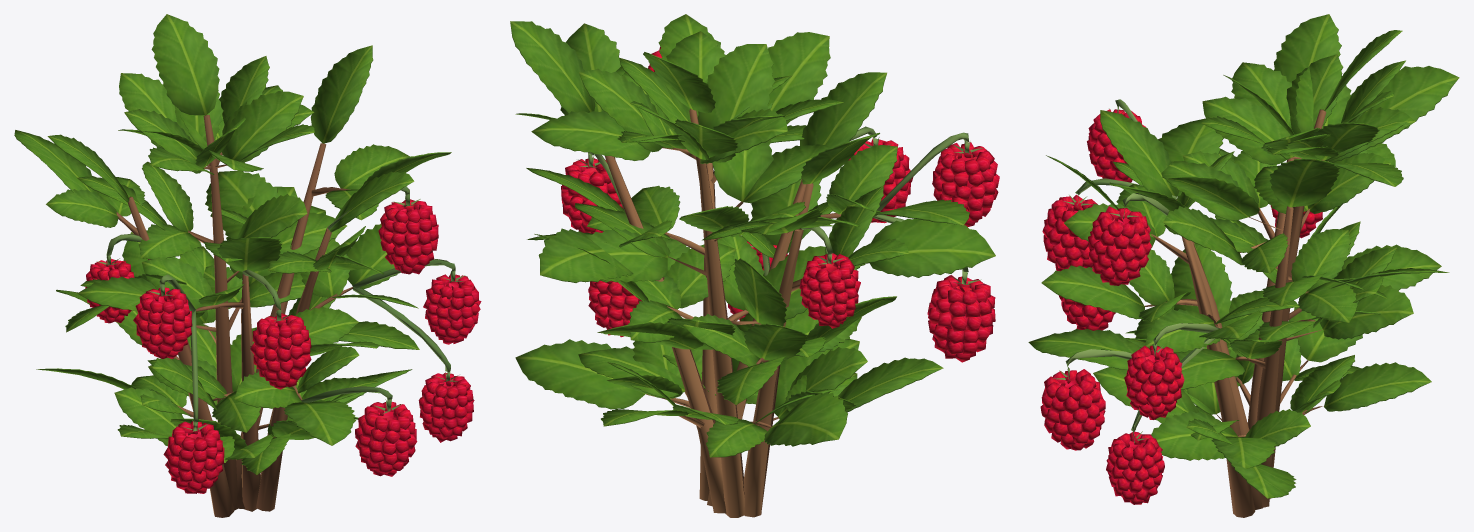
File: NP_Raspberry_Ready.fbx
3 views of the same model, side by side, from view 1: azimuth 30°, elevation 25°; view 2: azimuth 150°, elevation 25°; view 3: azimuth 270°, elevation 25° (orthographic). The views are drawn at different scales.
Parts seen in each view (by area): view 1: NP_Raspberry_Ready; view 2: NP_Raspberry_Ready; view 3: NP_Raspberry_Ready.
Part boxes in pixels (bbox=[...]): NP_Raspberry_Ready: bbox=[14, 14, 481, 517]; NP_Raspberry_Ready: bbox=[510, 14, 999, 517]; NP_Raspberry_Ready: bbox=[1028, 14, 1459, 517].
Bounding box in the file's own units: 79.11 × 85.75 × 71.11.
1 material, 1 textured.
